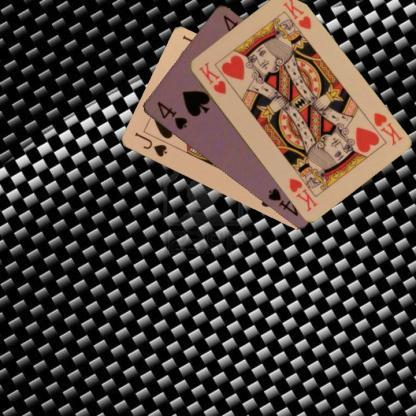4s: (154, 98, 188, 131)
Js: (132, 130, 168, 158)
Kh: (369, 110, 403, 146), (195, 59, 227, 96)
